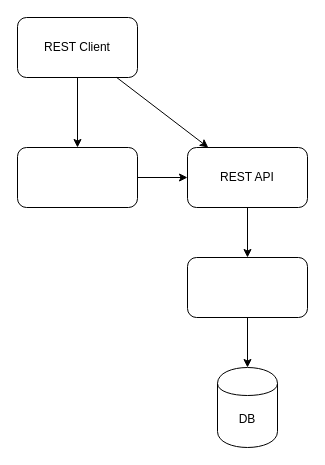
The diagram is 325 pixels wide and 465 high, and some of its shapes have lost their labels. The centre of each missing label's shape, as x and y in pixels:
"Database Controller" belongs at (247,287).
"REST Server" belongs at (77,177).
